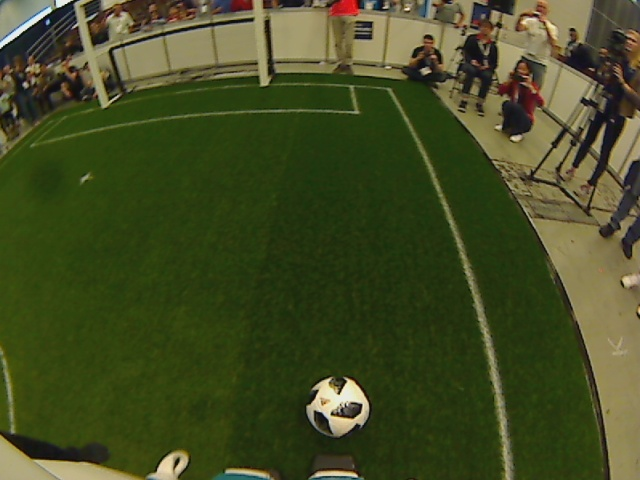ball: (303, 372, 372, 440)
